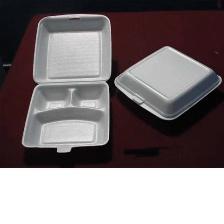foam_box: (17, 10, 115, 157), (110, 41, 223, 123)
